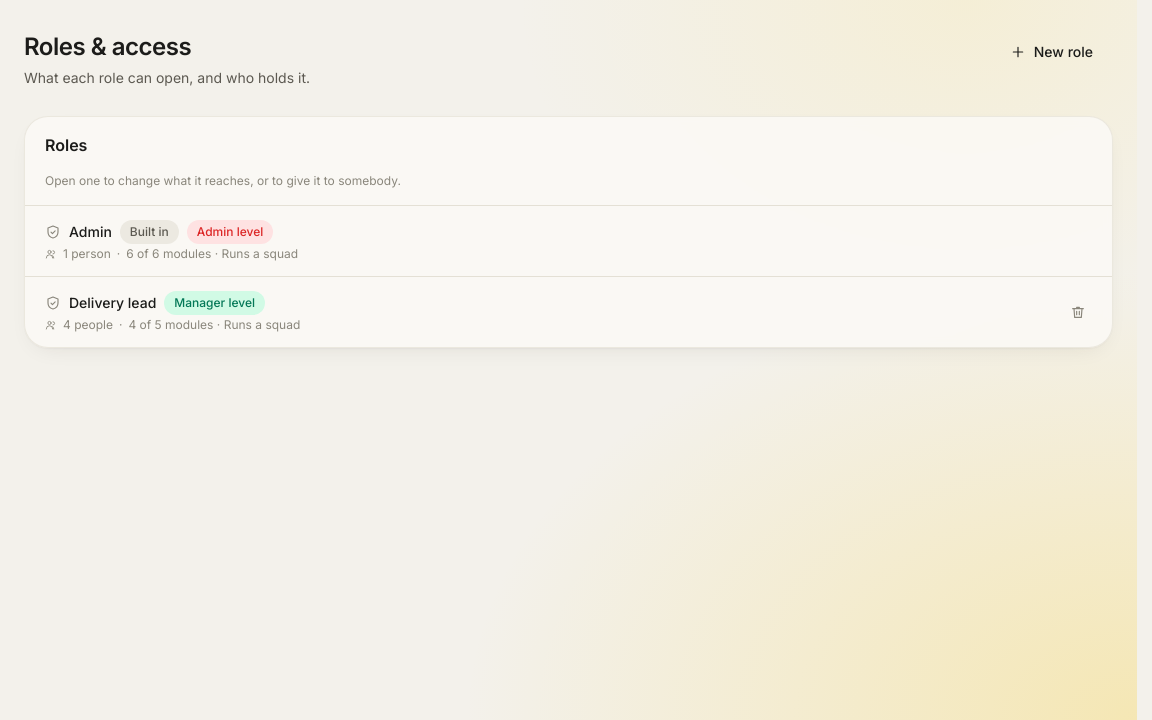
the list of roles › says why the admin role cannot be narrowed
What coordinates should you click on to do the following:
click the button "Admin"
I would click on:
 (90, 232)
Its box is [45, 220, 1092, 262].
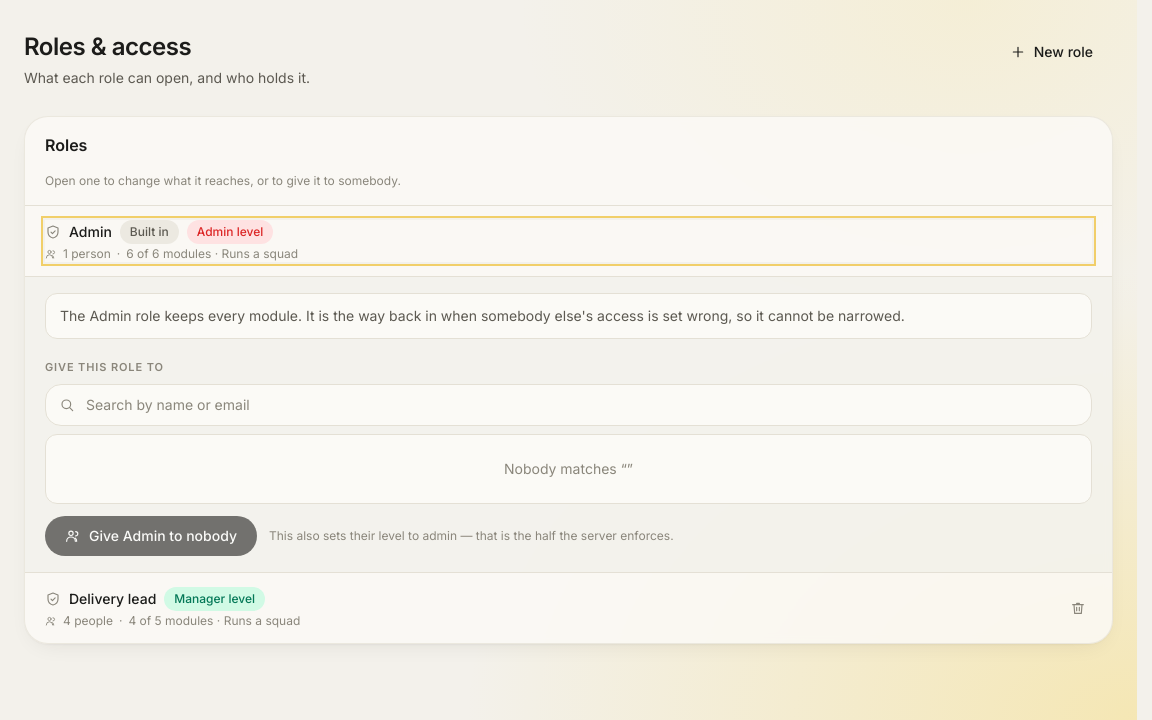
Check: the text "way back in" is shown, box [60, 307, 905, 324]
